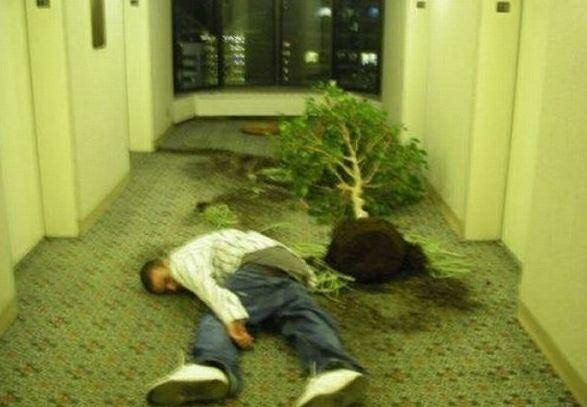fall: (124, 221, 388, 407)
